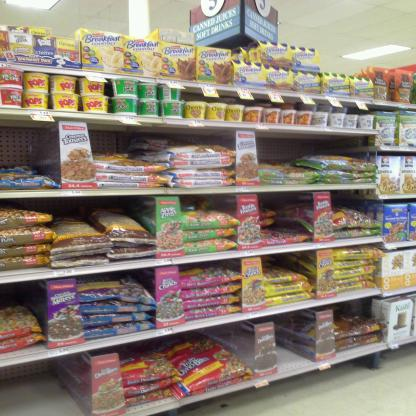Void: (4, 371, 59, 412), (2, 120, 41, 162), (282, 315, 310, 367), (258, 135, 298, 162), (312, 137, 354, 156), (2, 286, 38, 307), (94, 129, 125, 150)
